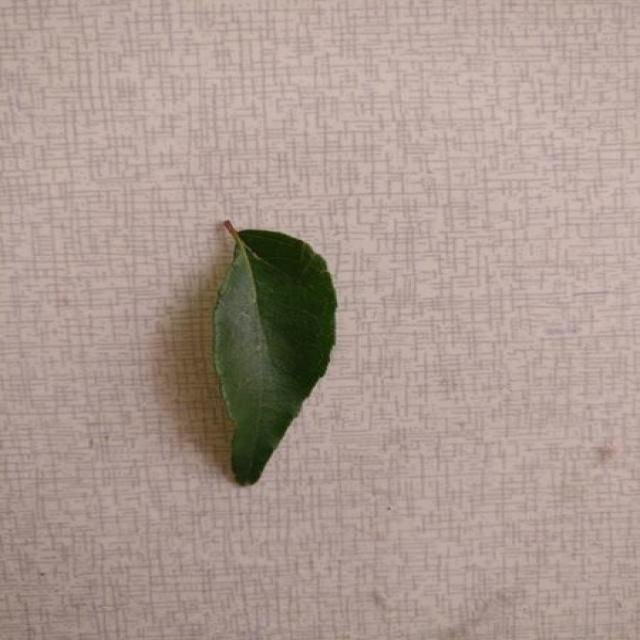curry: (213, 221, 337, 484)
